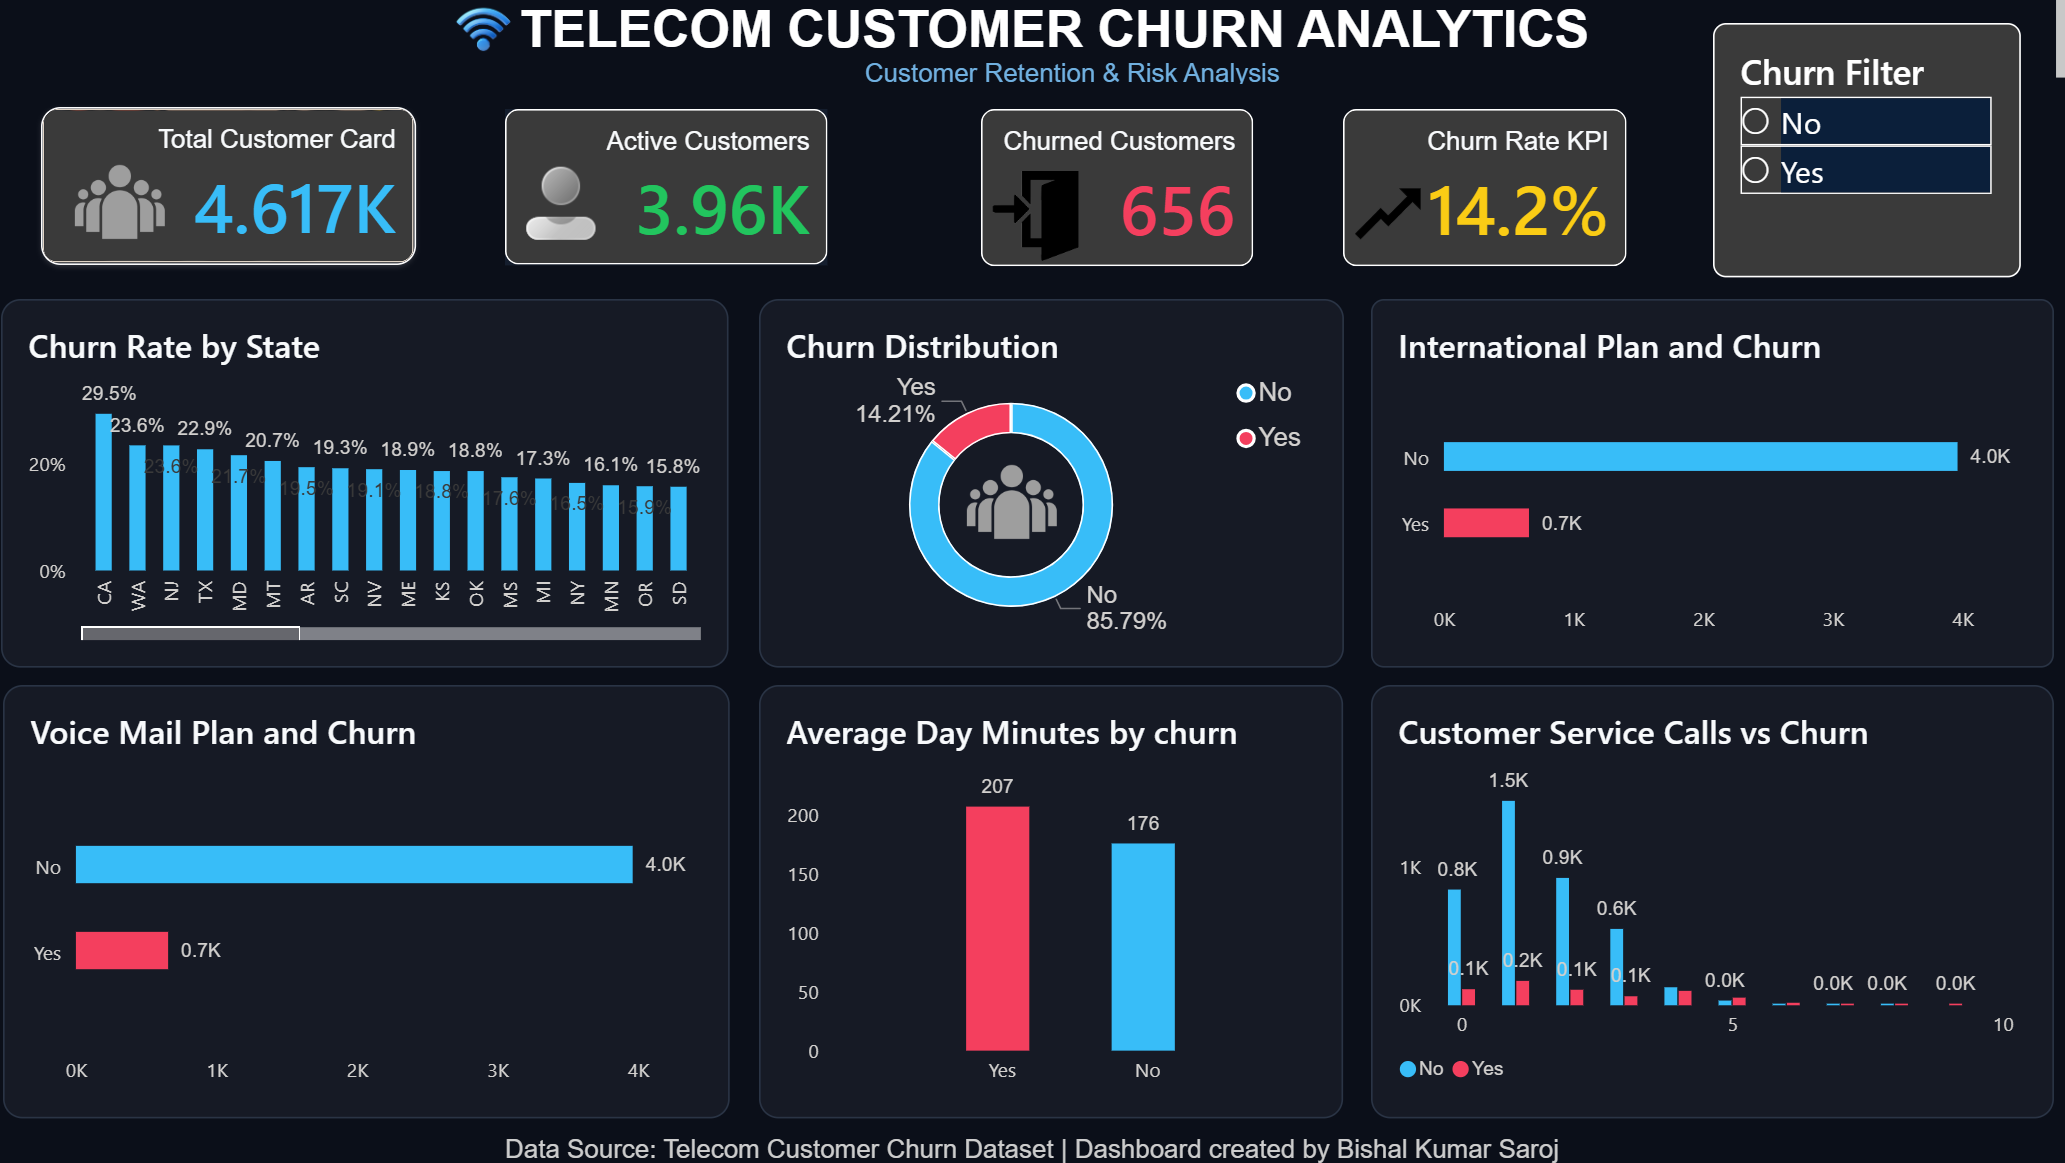

What the dashboard file says about the page in this screenshot:
{"tool":"powerbi","page":{"name":"Customer Churn Dashboard","canvas":[1280,720],"ordinal":0},"visuals":[{"type":"clusteredColumnChart","title":"Churn Rate by State","fields":{"Category":["Telecom_Churn_PowerBI.State"],"Y":["Telecom_Churn_PowerBI.Churn Rate KPI"]},"box":[3.7,185.5,448.9,227.6],"z":0},{"type":"donutChart","title":"Churn Distribution","fields":{"Category":["Telecom_Churn_PowerBI.Churn"],"Y":["CountNonNull(Telecom_Churn_PowerBI.Churn)"]},"box":[471.2,185.5,361.1,227.6],"z":1000},{"type":"clusteredBarChart","title":"International Plan and Churn","fields":{"Category":["Telecom_Churn_PowerBI.Churn"],"Y":["CountNonNull(Telecom_Churn_PowerBI.International_Plan)"]},"box":[849.6,185.5,421.7,227.6],"z":2000},{"type":"clusteredBarChart","title":" Voice Mail Plan and Churn","fields":{"Category":["Telecom_Churn_PowerBI.Churn"],"Y":["CountNonNull(Telecom_Churn_PowerBI.VMail_Plan)"]},"box":[4.5,423.2,448.6,267.7],"z":3000},{"type":"cardVisual","fields":{"Data":["Telecom_Churn_PowerBI.Churn Rate KPI"]},"box":[832.3,68,175.6,97.7],"z":4000},{"type":"clusteredColumnChart","title":"Average Day Minutes by churn","fields":{"Category":["Telecom_Churn_PowerBI.Churn"],"Y":["Avg(Telecom_Churn_PowerBI.Day_Mins)"]},"box":[471,423.2,360.4,267.7],"z":5000},{"type":"cardVisual","fields":{"Data":["CountNonNull(Telecom_Churn_PowerBI.Account_Length)"]},"box":[28.4,66.8,231.3,97.7],"z":6000},{"type":"textbox","box":[1056,0,150,172],"z":7000},{"type":"clusteredColumnChart","title":"Customer Service Calls vs Churn","fields":{"Category":["Telecom_Churn_PowerBI.CustServ_Calls"],"Series":["Telecom_Churn_PowerBI.Churn"],"Y":["CountNonNull(Telecom_Churn_PowerBI.Churn)"]},"box":[849.3,423.2,421.7,267.7],"z":8000},{"type":"listSlicer","title":"Churn Filter","fields":{"Values":["Telecom_Churn_PowerBI.Churn"]},"box":[1060.2,15,189.9,157],"z":9000},{"type":"cardVisual","fields":{"Data":["Telecom_Churn_PowerBI.Churned Customers"]},"box":[608.6,67.3,169,97.2],"z":10000},{"type":"cardVisual","fields":{"Data":["Telecom_Churn_PowerBI.Active Customers"]},"box":[315.4,68,199.1,96.5],"z":11000},{"type":"image","box":[315.4,98.9,69.3,56.9],"z":12000},{"type":"textbox","box":[0,0,1280,51.9],"z":13000},{"type":"textbox","box":[0,701.3,1280,19.4],"z":14000},{"type":"image","box":[35.9,97.2,82.2,55.3],"z":15000},{"type":"image","box":[282.6,0,37.4,37.4],"z":16000},{"type":"image","box":[838.9,112.1,40.4,40.4],"z":17000},{"type":"image","box":[590.7,106.2,101.7,55.3],"z":18000}]}

Visuals, with their boxes in screenshot pixels (x1, y1, x2, y2), scaled from the page's 1280x720 canvas onto the 2065x1163 screenshot:
"Churn Rate by State" clusteredColumnChart: 6:300:730:667
"Churn Distribution" donutChart: 760:300:1343:667
"International Plan and Churn" clusteredBarChart: 1371:300:2051:667
" Voice Mail Plan and Churn" clusteredBarChart: 7:684:731:1116
cardVisual - Telecom_Churn_PowerBI.Churn Rate KPI: 1343:110:1626:268
"Average Day Minutes by churn" clusteredColumnChart: 760:684:1341:1116
cardVisual - CountNonNull(Telecom_Churn_PowerBI.Account_Length): 46:108:419:266
textbox: 1704:0:1946:278
"Customer Service Calls vs Churn" clusteredColumnChart: 1370:684:2050:1116
"Churn Filter" listSlicer: 1710:24:2017:278
cardVisual - Telecom_Churn_PowerBI.Churned Customers: 982:109:1254:266
cardVisual - Telecom_Churn_PowerBI.Active Customers: 509:110:830:266
image: 509:160:621:252
textbox: 0:0:2064:84
textbox: 0:1133:2064:1162
image: 58:157:191:246
image: 456:0:516:60
image: 1353:181:1419:246
image: 953:172:1117:261
